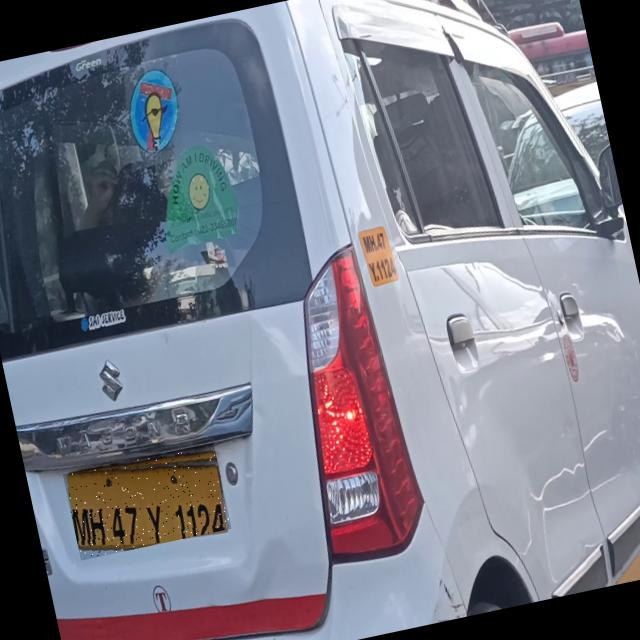Plate: (64, 443, 233, 561)
